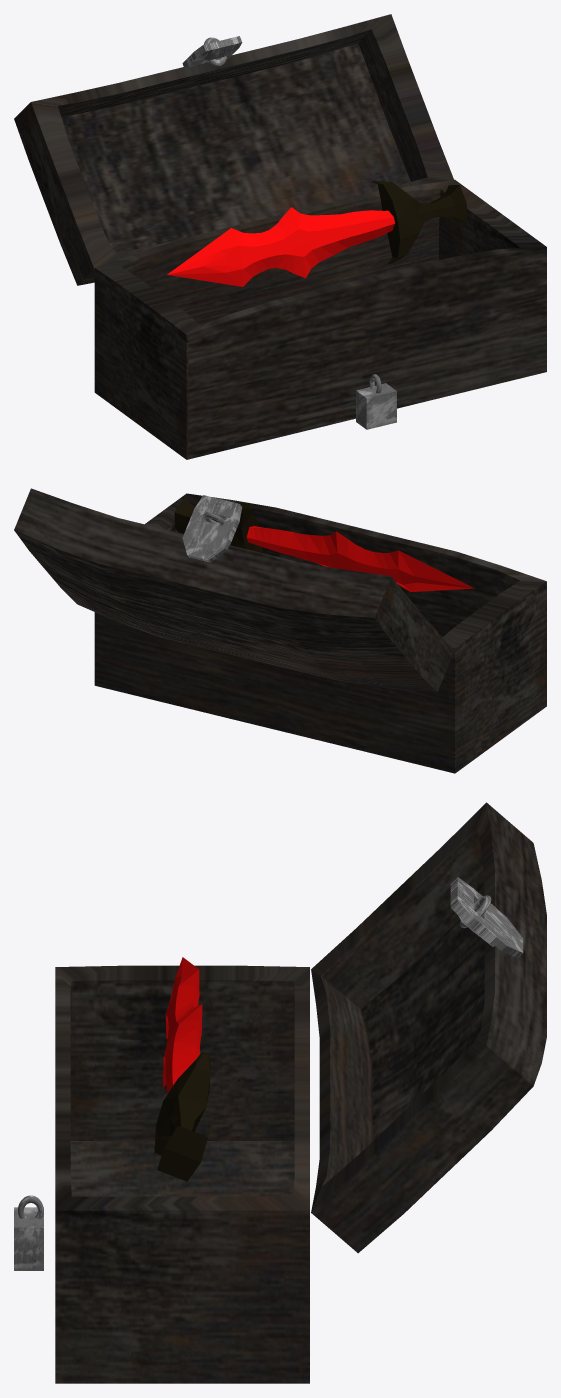
File: chestn sword.fbx
3 renders of one model, top to bottom at view 1: azimuth 30°, elevation 25°; view 2: azimuth 150°, elevation 25°; view 3: azimuth 270°, elevation 25°, orthographic. The views are drawn at different scales.
Parts seen in each view (by area): view 1: Cube, Cube.001, Plane, Cube.006, Cube.002, Plane.001; view 2: Cube, Cube.001, Plane, Plane.001, Cube.006; view 3: Cube, Cube.001, Cube.006, Plane, Plane.001, Cube.002.
Boxes of the visible parts, x1,y1,x2,y2 form: Cube: (94,179,546,459); Cube.001: (14,14,453,285); Plane: (167,207,395,286); Cube.006: (371,180,467,263); Cube.002: (356,383,396,429); Plane.001: (182,36,242,67); Cube: (94,493,546,773); Cube.001: (14,488,454,692); Plane: (246,526,474,591); Plane.001: (182,495,242,562); Cube.006: (174,496,263,552); Cube: (55,965,309,1383); Cube.001: (311,802,546,1253); Cube.006: (154,1051,210,1181); Plane: (162,957,202,1093); Plane.001: (450,877,523,957); Cube.002: (14,1207,43,1270).
Size of the model in its own units: 453 by 323 by 419.
